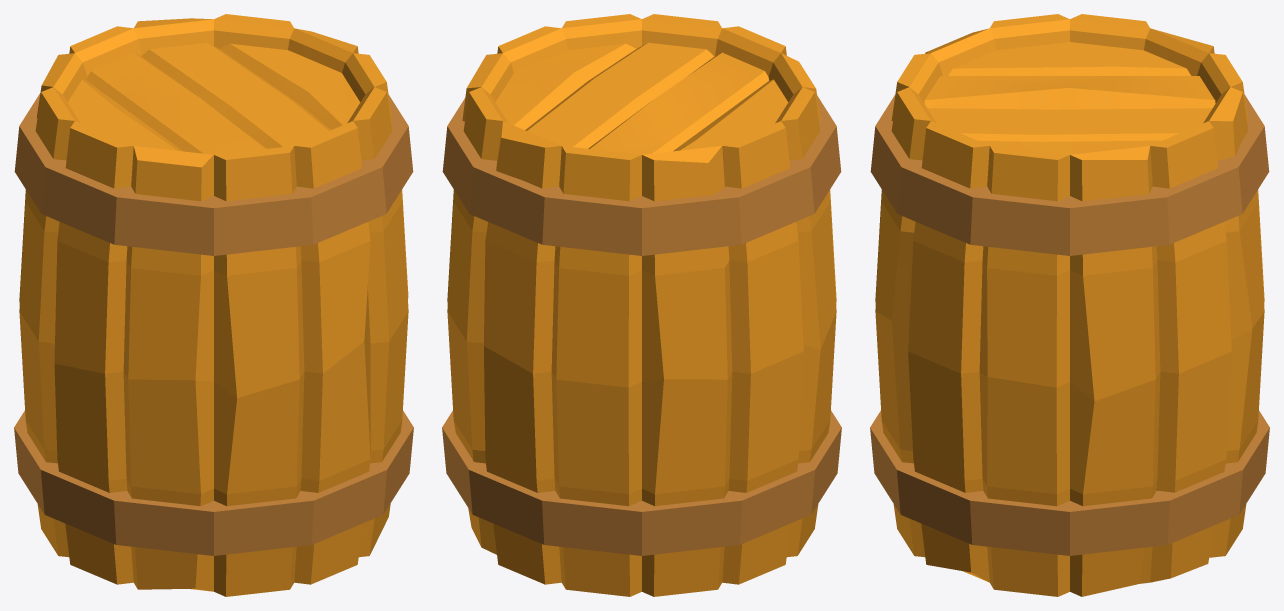
Rendered from SM_Prop_Barrel_01.glb.
3 views of the same model, side by side, from view 1: azimuth 30°, elevation 25°; view 2: azimuth 150°, elevation 25°; view 3: azimuth 270°, elevation 25° (orthographic).
Parts seen in each view (by area): view 1: SM_Prop_Barrel_01; view 2: SM_Prop_Barrel_01; view 3: SM_Prop_Barrel_01.
Part boxes in pixels (left/top/right/bottom): SM_Prop_Barrel_01: left=14, top=14, right=413, bottom=596; SM_Prop_Barrel_01: left=442, top=14, right=841, bottom=596; SM_Prop_Barrel_01: left=870, top=14, right=1269, bottom=596.
Bounding box in the file's own units: 0.7772 × 0.9369 × 0.7772.
Materials: 1 (1 with a texture image).
